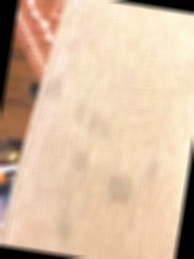oil: (67, 115, 113, 175), (107, 168, 143, 205), (42, 77, 68, 102)
